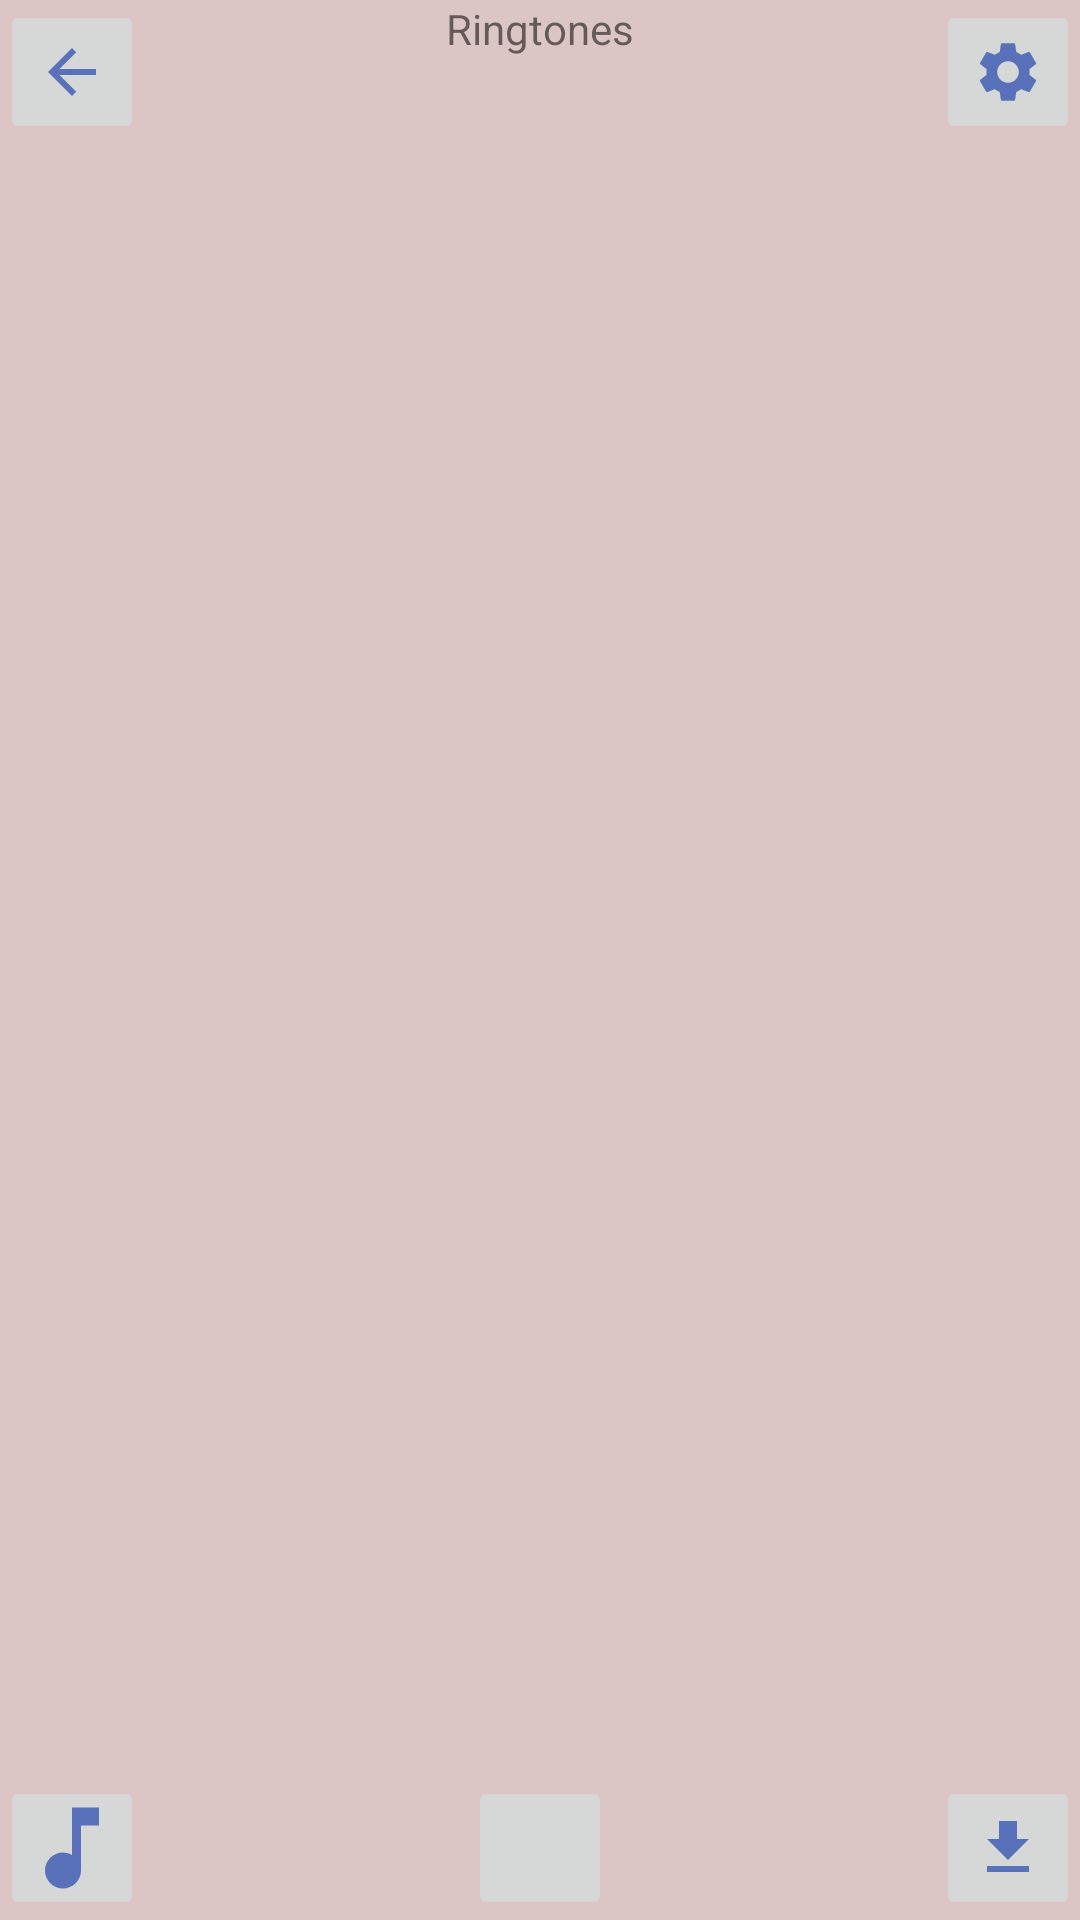

Where to tap for icons on this 1080×1920 app screen, as (x=x, y=y):
back button: (x=72, y=72)
download: (x=1008, y=1848)
music note: (x=72, y=1848)
setting button: (x=1008, y=72)
